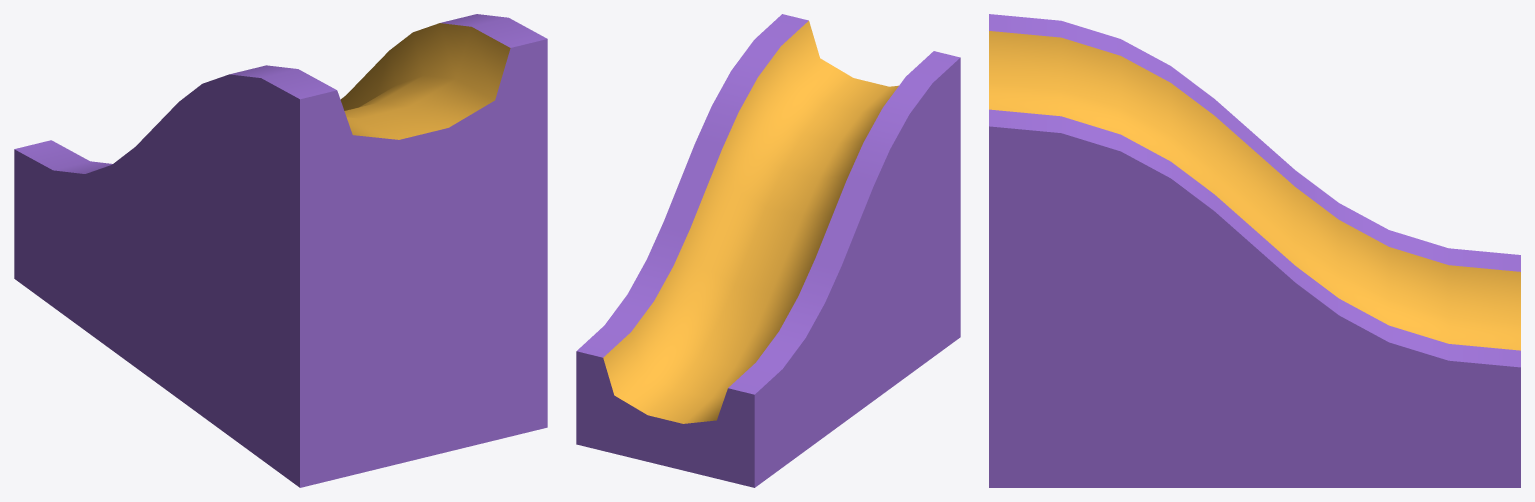
Rendered from ramp-long-solid-c.glb.
The picture shows the model from 3 angles, left to right: view 1: azimuth 30°, elevation 25°; view 2: azimuth 150°, elevation 25°; view 3: azimuth 270°, elevation 25°; orthographic projection. The views are drawn at different scales.
Visible parts, largest first — view 1: ramp-long-solid-c; view 2: ramp-long-solid-c; view 3: ramp-long-solid-c.
Boxes of the visible parts, bbox=[...] form: ramp-long-solid-c: bbox=[14, 14, 547, 487]; ramp-long-solid-c: bbox=[576, 14, 960, 487]; ramp-long-solid-c: bbox=[989, 14, 1520, 487].
Bounding box in the file's own units: 1 × 1.5 × 2.
1 material, 1 textured.
